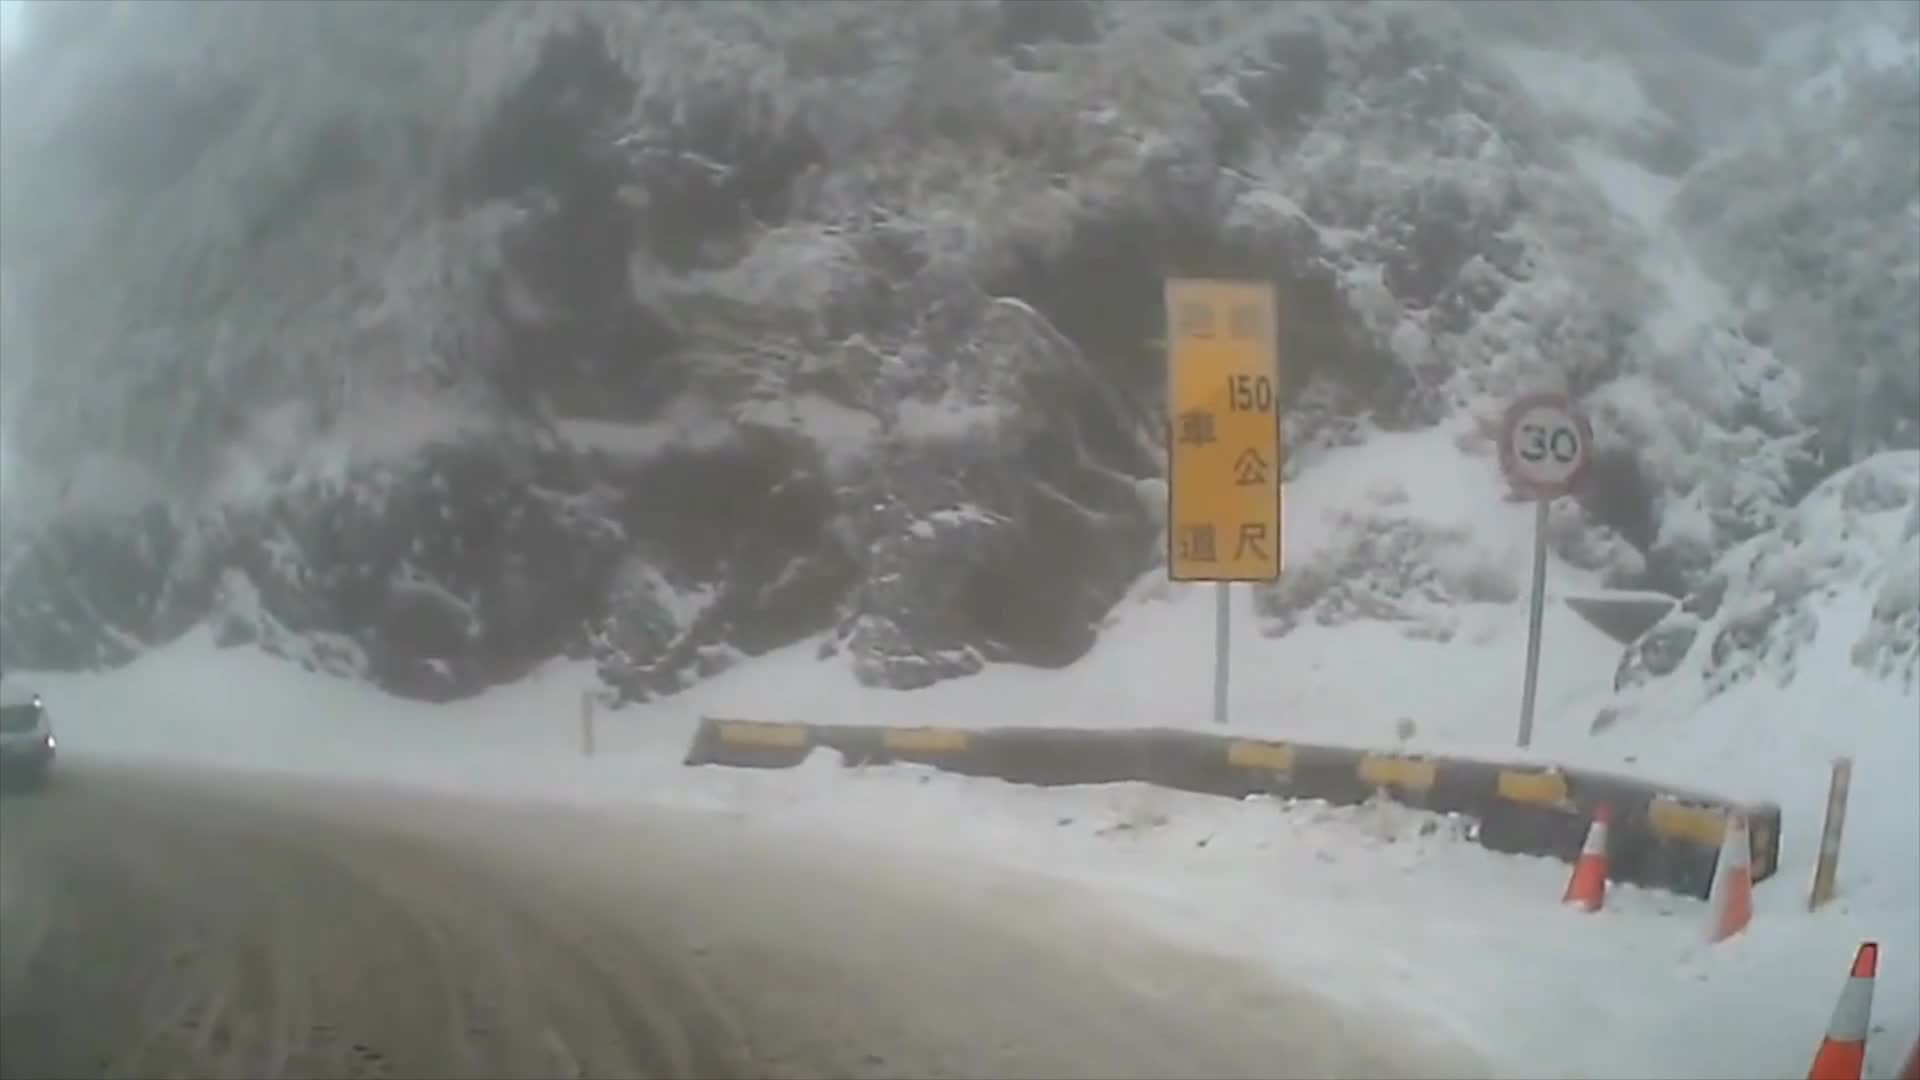vehicle: (0, 674, 54, 791)
